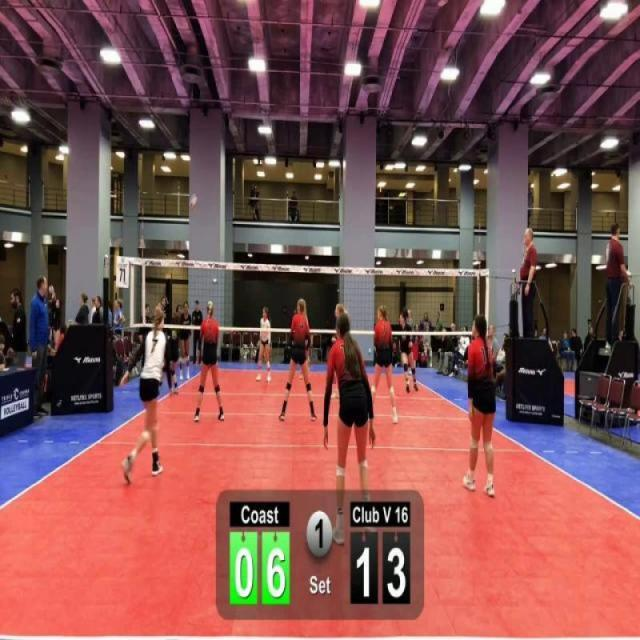volleyball: (190, 192, 200, 212)
